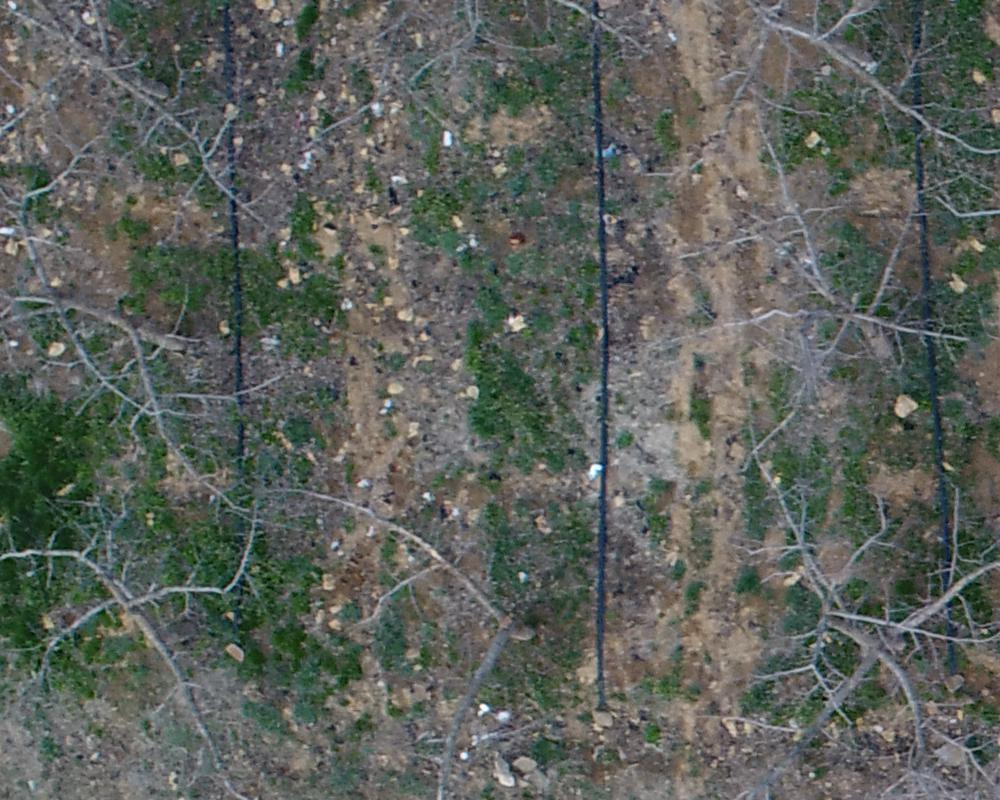apple: (632, 97, 990, 469), (10, 118, 323, 536), (682, 450, 990, 790), (285, 472, 563, 790), (10, 496, 289, 790), (602, 10, 990, 181), (10, 10, 284, 228)
